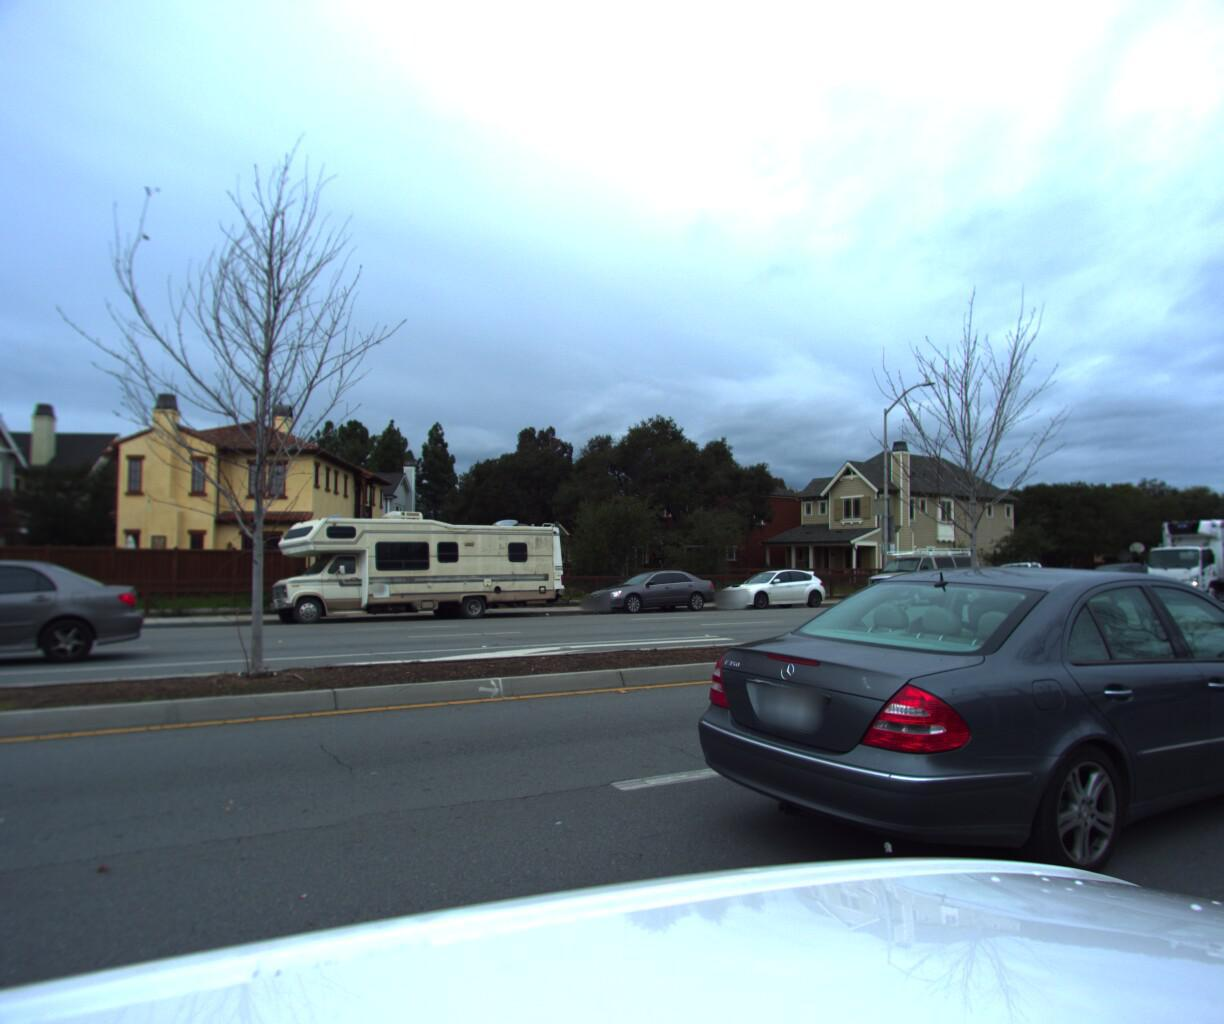car: (662, 555, 1224, 927), (0, 547, 143, 684), (848, 539, 988, 601), (572, 566, 726, 613), (703, 561, 835, 609), (960, 550, 1083, 598), (1063, 555, 1162, 596)
other_vehicle: (249, 495, 578, 622)
truck: (1125, 511, 1224, 601)
